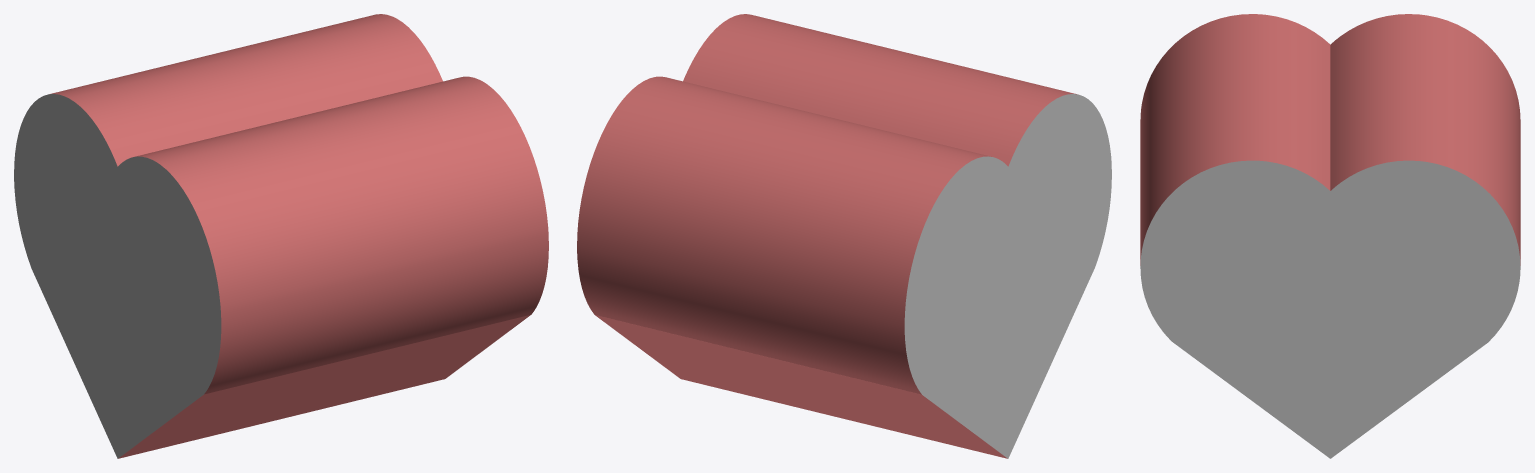
The model's file is hophey_heart.fbx.
3 renders of one model, left to right at view 1: azimuth 30°, elevation 25°; view 2: azimuth 150°, elevation 25°; view 3: azimuth 270°, elevation 25°, orthographic. The views are drawn at different scales.
Visible parts, largest first — view 1: Heart; view 2: Heart; view 3: Heart.
Part boxes in pixels (x1=…): Heart: x1=14, y1=14, x2=548, y2=458; Heart: x1=577, y1=14, x2=1111, y2=458; Heart: x1=1140, y1=14, x2=1520, y2=458.
Size of the model in its own units: 100 by 94.95 by 110.
